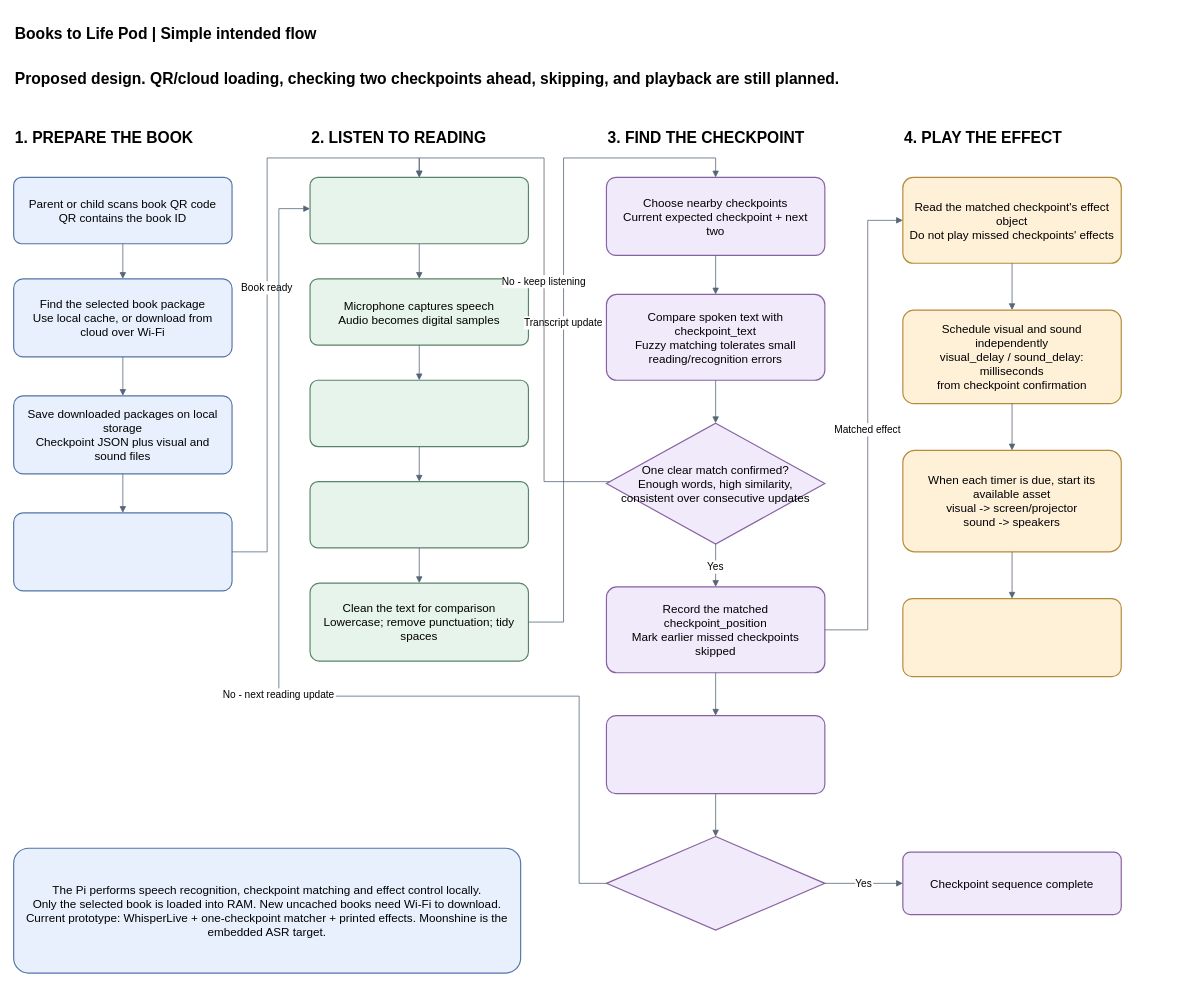
Some shapes in this 1197 by 987 pixel diagram are drawn without their labels. The centre of each missing label's shape, as x and y in pixels:
"All checkpoints handled?" goes at (715,883).
"Child or parent reads aloud" goes at (419,210).
"Detect speech and ignore silence Voice activity detection (VAD)" goes at (419,413).
"Keep listening while effects run Timers and playback do not pause reading" goes at (1011,637).
"Load checkpoint data into RAM Keep media files on local storage" goes at (122,551).
"Move to the next checkpoint Update the three-checkpoint window" goes at (715,754).
"Turn speech into text Speech recognition (ASR)" goes at (419,514).
